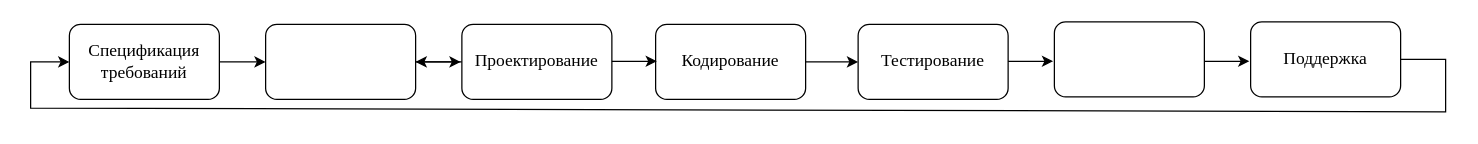
Image size: 1478x144. Some labels were removed from this diagram. Here are the shapes that lost their labels. From the top down, the centre of each, then its label:
At point (340, 61): "Анализ требований".
At point (1128, 59): "Развертывание".
